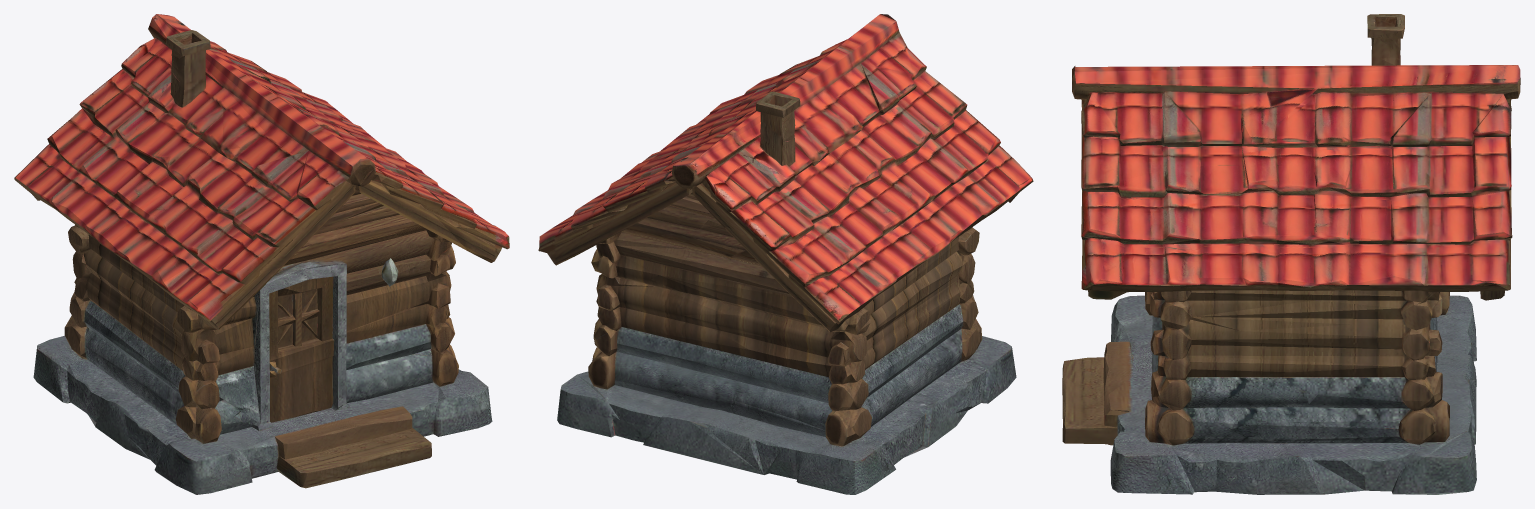
3 renders of one model, left to right at view 1: azimuth 30°, elevation 25°; view 2: azimuth 150°, elevation 25°; view 3: azimuth 270°, elevation 25°, orthographic. The views are drawn at different scales.
Size of the model in its own units: 1.65 by 1.71 by 1.9.
Materials: 1 (1 with a texture image).
